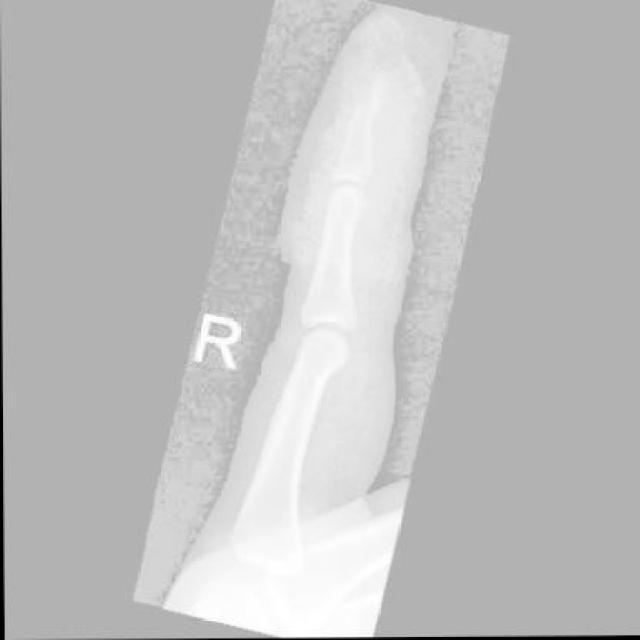Fracture: (343, 65, 393, 127)
